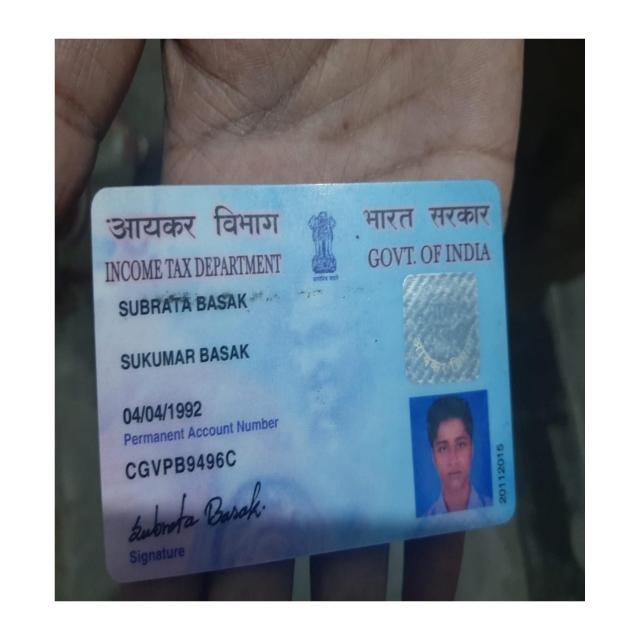pan_card: (95, 187, 513, 577)
